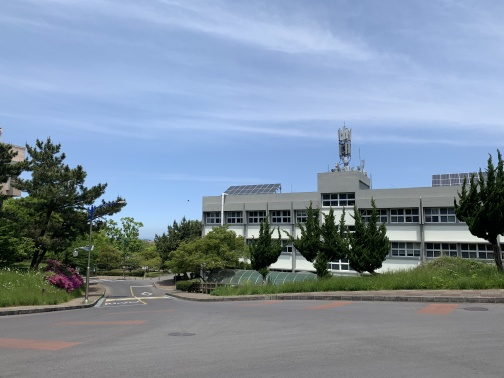College Of Education: (1, 142, 34, 207)
